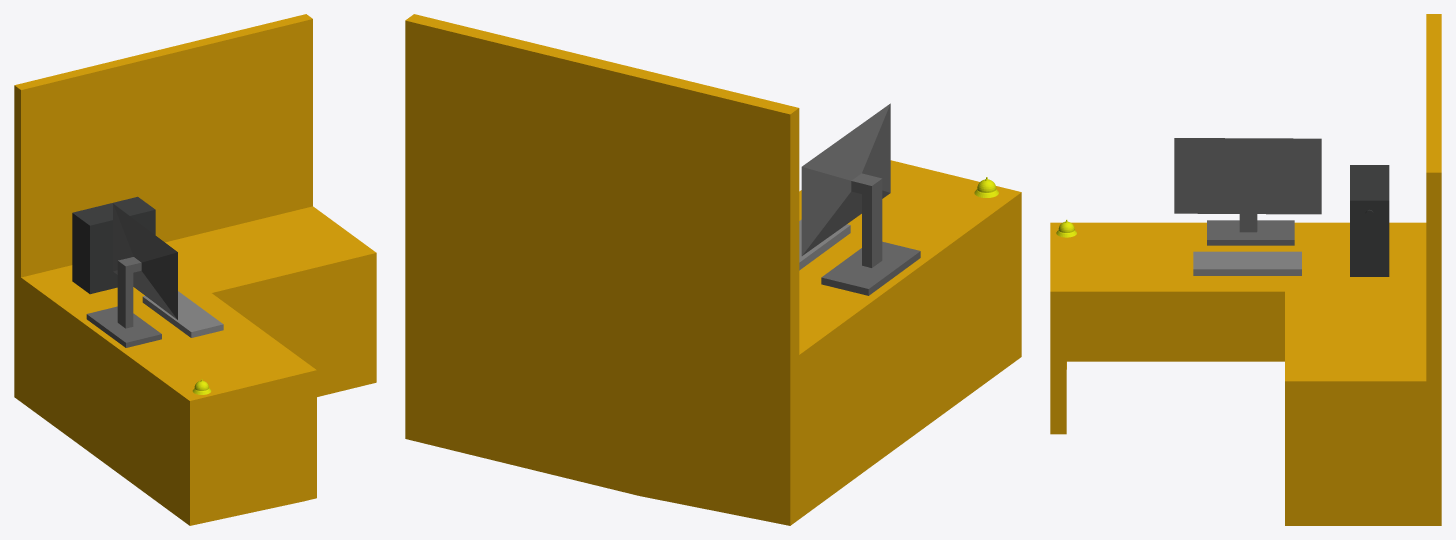
File: desktop.dae
3 renders of one model, left to right at view 1: azimuth 30°, elevation 25°; view 2: azimuth 150°, elevation 25°; view 3: azimuth 270°, elevation 25°, orthographic. The views are drawn at different scales.
Visible parts, largest first — view 1: Mesa, Monitor, PC, Teclado; view 2: Mesa, Monitor, Teclado; view 3: Mesa, Monitor, PC, Teclado.
Boxes of the visible parts, x1,y1,x2,y2 form: Mesa: [14, 14, 376, 525]; Monitor: [86, 203, 177, 347]; PC: [72, 196, 155, 294]; Teclado: [142, 291, 223, 337]; Mesa: [405, 14, 1021, 525]; Monitor: [801, 103, 920, 295]; Teclado: [799, 219, 850, 270]; Mesa: [1050, 14, 1441, 525]; Monitor: [1174, 138, 1321, 245]; PC: [1350, 165, 1389, 276]; Teclado: [1193, 251, 1301, 275].
Bounding box in the file's own units: 46.21 × 48.12 × 47.97.
